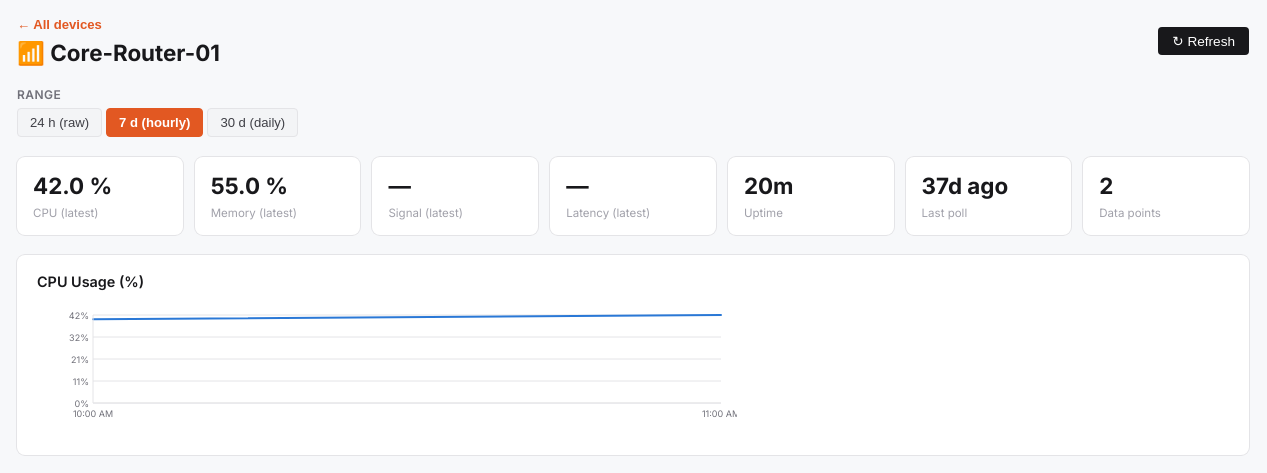
Scenario: SnmpMetrics — device history (level 2, deep-linked) › "← All devices" returns to the fleet grid
Expected: the heading "📶 Core-Router-01" is shown, [17,36,220,70]
What coordinates should you click on to do the following:
click the button "← All devices"
I would click on:
 (59, 24)
Its box is [17,17,102,32].
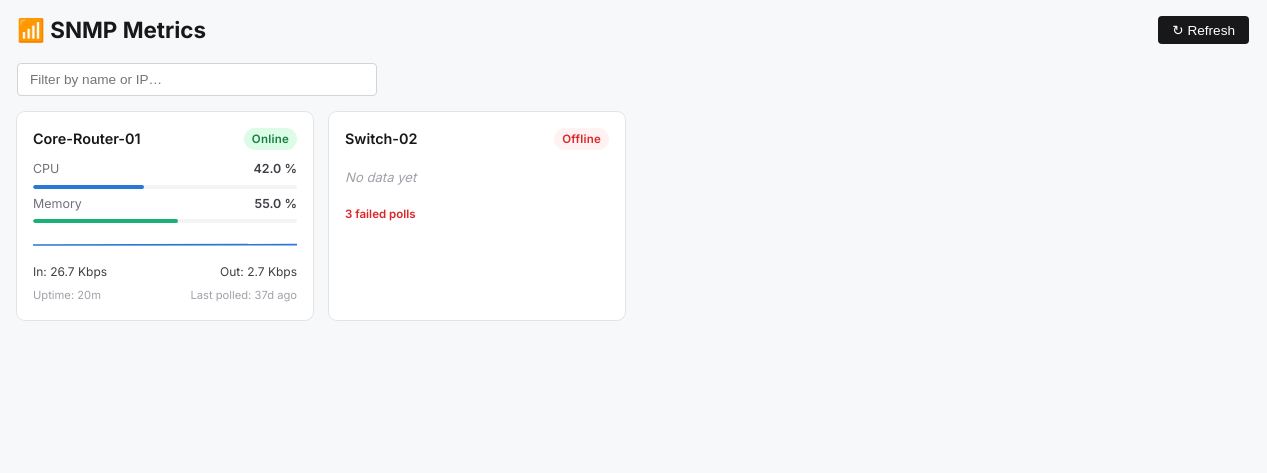
Expected: the text "Switch-02" is shown, [345,128,418,150]
